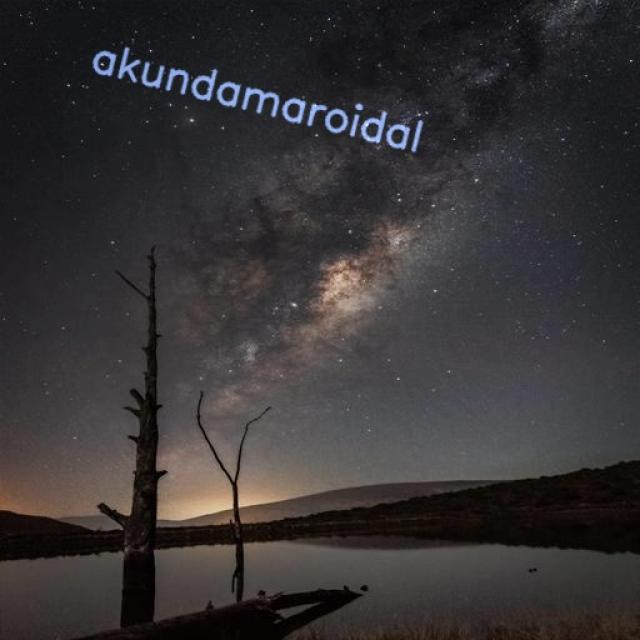watermark: (78, 38, 450, 160)
